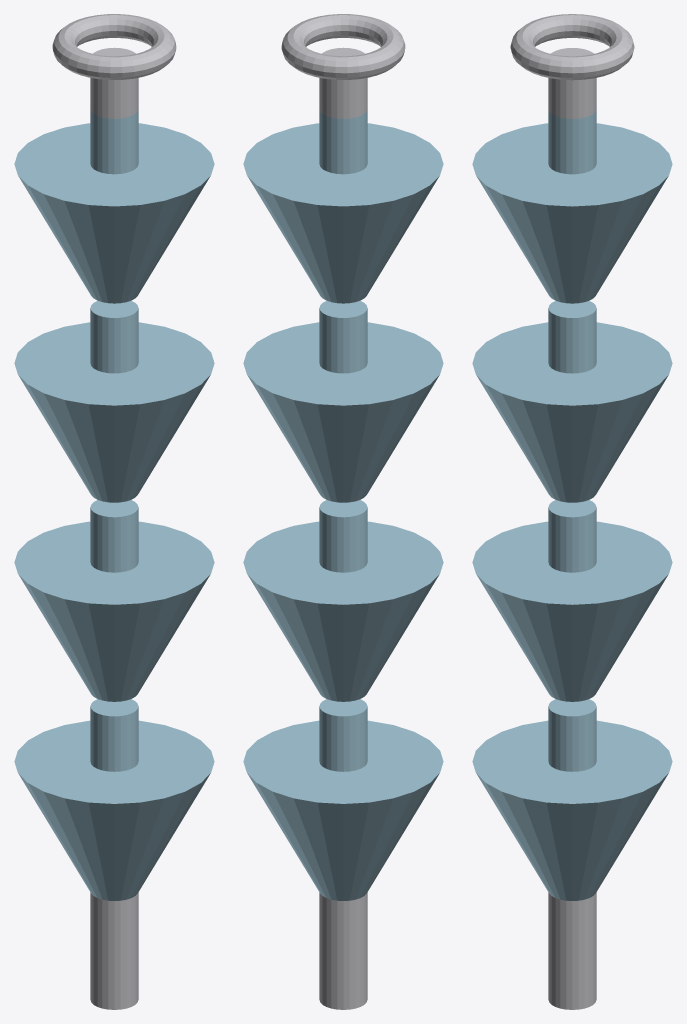
Rendered from Cadena_531mm.fbx.
3 renders of one model, left to right at view 1: azimuth 30°, elevation 25°; view 2: azimuth 150°, elevation 25°; view 3: azimuth 270°, elevation 25°, orthographic.
Visible parts, largest first — view 1: Cadena_531mm; view 2: Cadena_531mm; view 3: Cadena_531mm.
Boxes of the visible parts, x1,y1,x2,y2 form: Cadena_531mm: (14, 14, 214, 1009); Cadena_531mm: (243, 14, 443, 1009); Cadena_531mm: (472, 14, 672, 1009).
Size of the model in its own units: 10 by 53.1 by 10.
